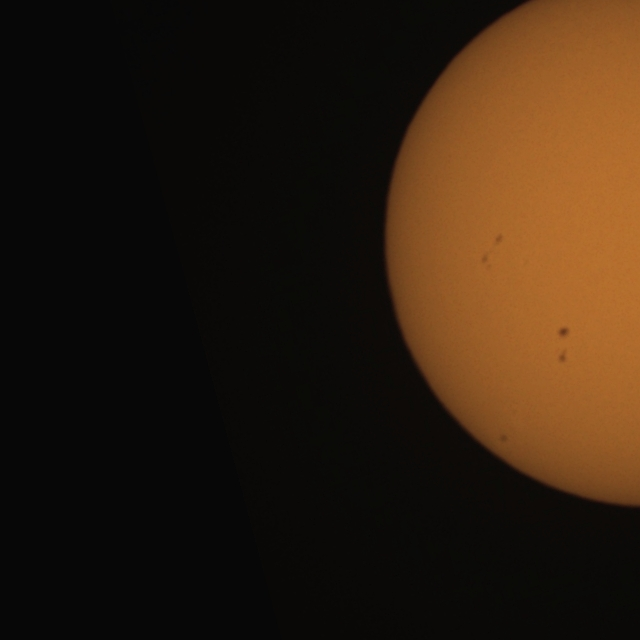sunspot: (480, 234, 504, 269), (556, 328, 572, 368), (556, 326, 572, 341), (556, 348, 568, 366), (497, 432, 510, 446), (494, 232, 505, 246)
